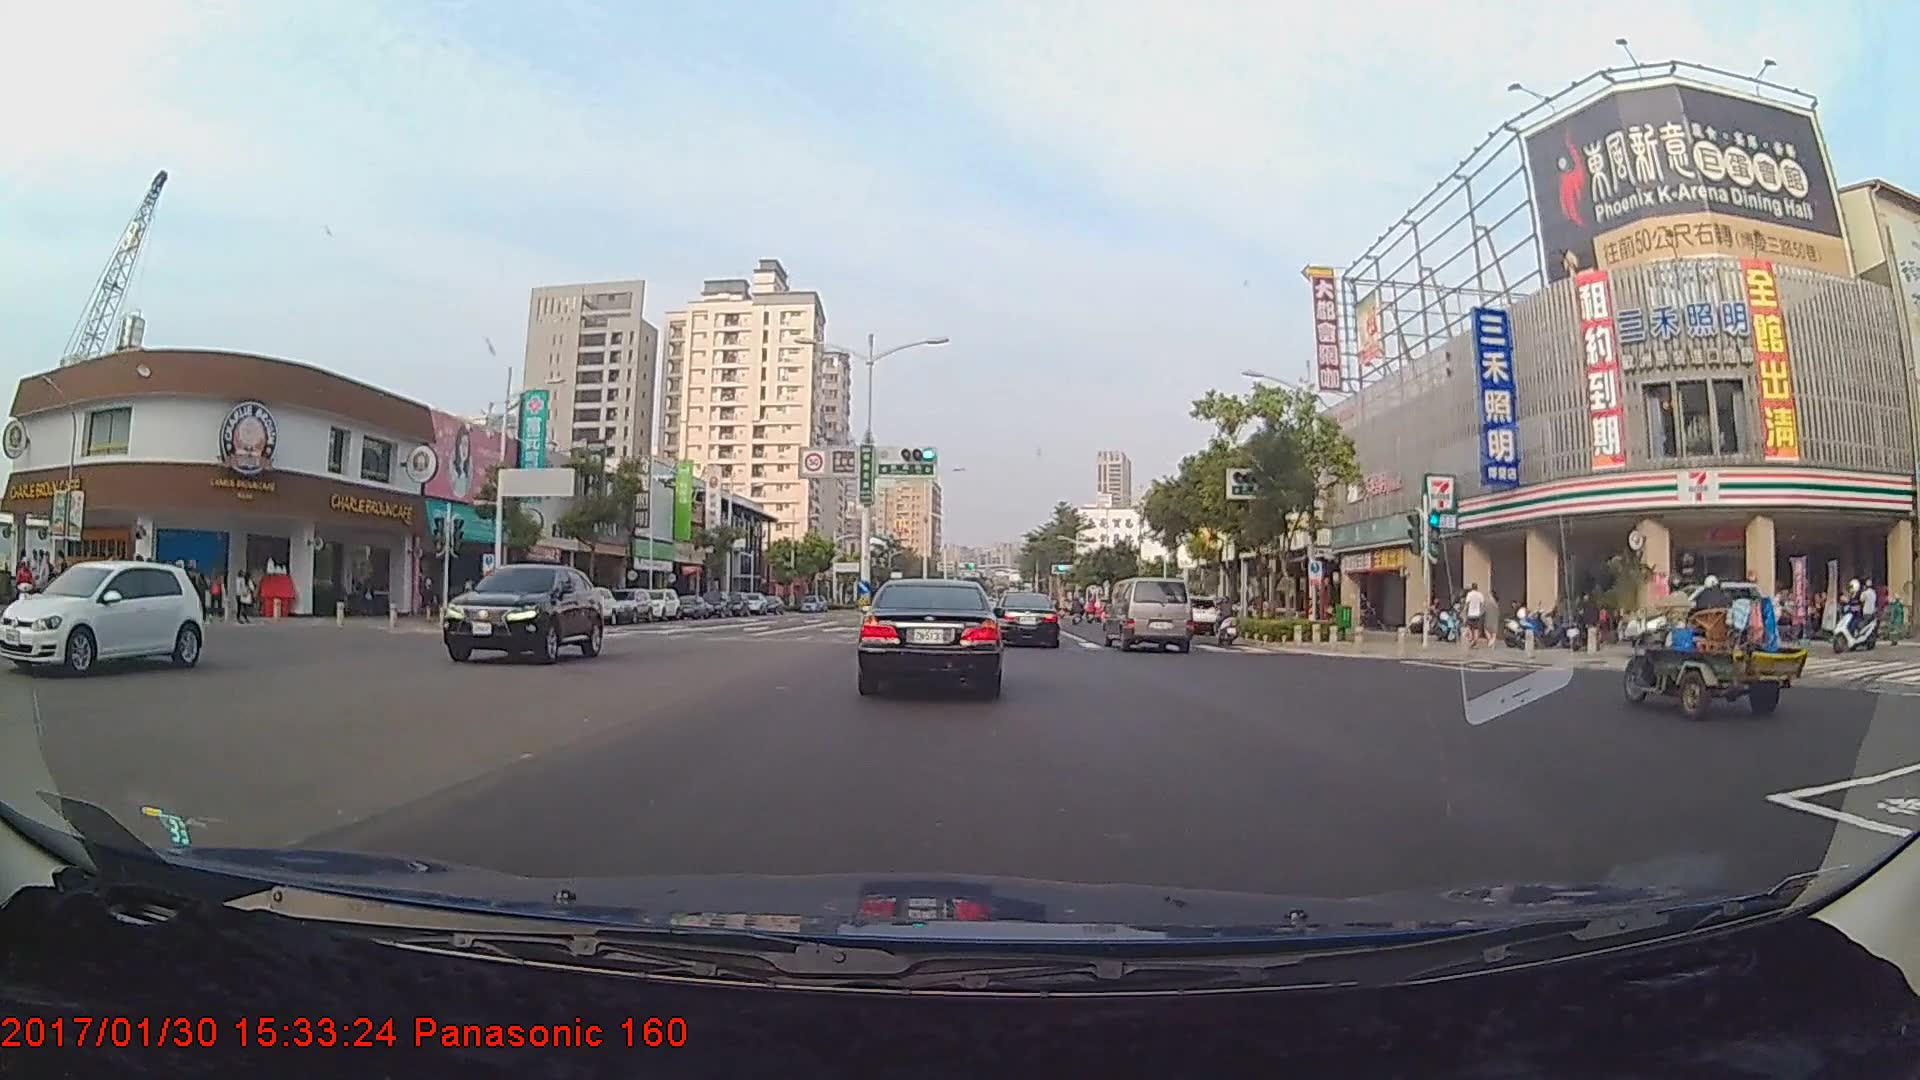pedestrian: (1463, 581, 1488, 648), (1482, 589, 1504, 650), (419, 573, 439, 622)
rider: (1823, 575, 1887, 656), (1214, 592, 1249, 649)
vehicle: (859, 573, 1002, 698), (49, 555, 200, 669), (444, 560, 607, 665), (1617, 580, 1761, 651), (1105, 576, 1192, 654), (992, 592, 1060, 648), (605, 582, 654, 620), (636, 589, 681, 623), (676, 590, 712, 621)
